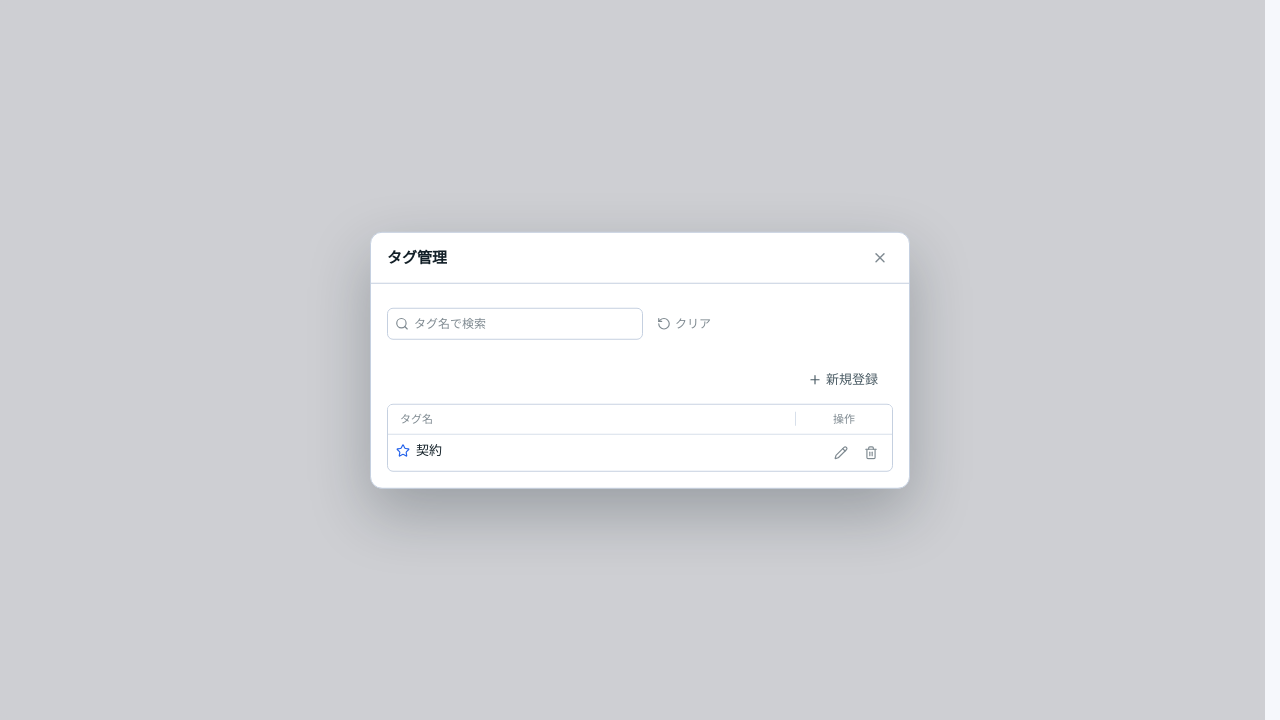
Test: TagMasterOverlay — 削除フロー 3 経路（cmn-0384・close-first 配線） › remove 失敗でもダイアログは閉じたまま（失敗の通知はトーストに委譲）
This screenshot has width=1280, height=720.
Click the button named "契約 を削除" at {"x": 871, "y": 452}, box [858, 439, 884, 465]
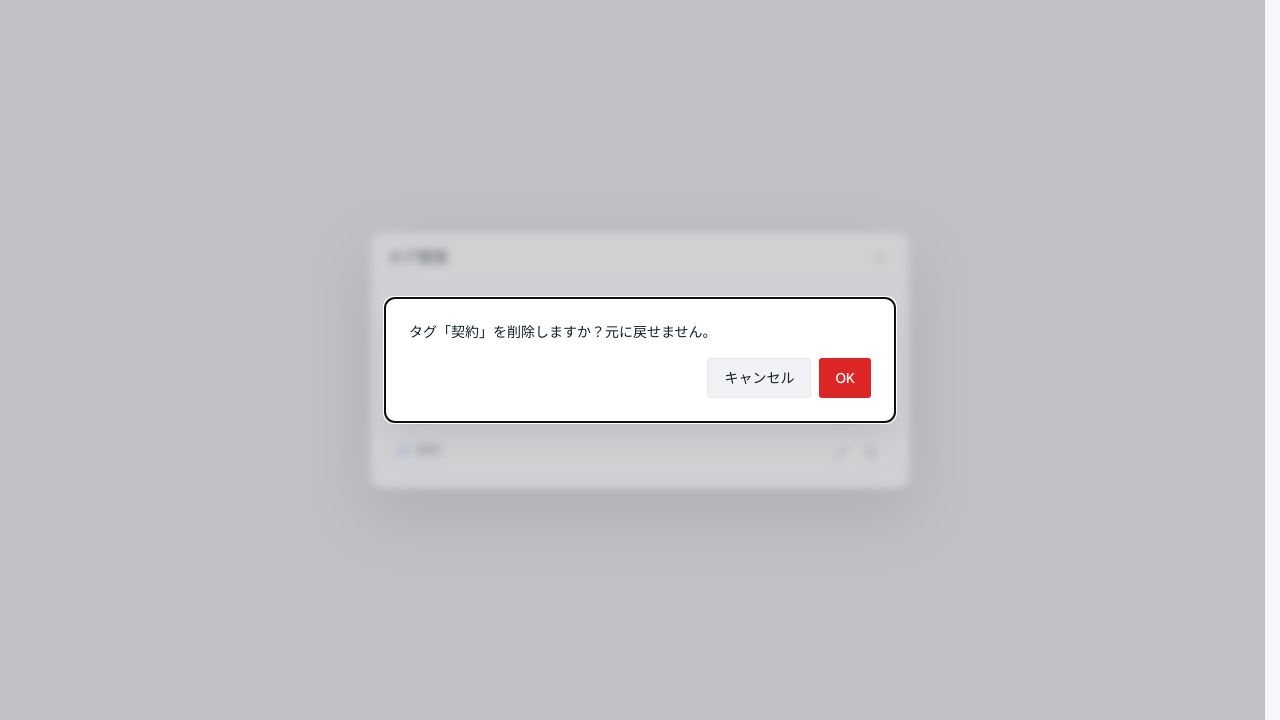
Click the button "OK" at {"x": 845, "y": 378}, box [820, 358, 871, 398]
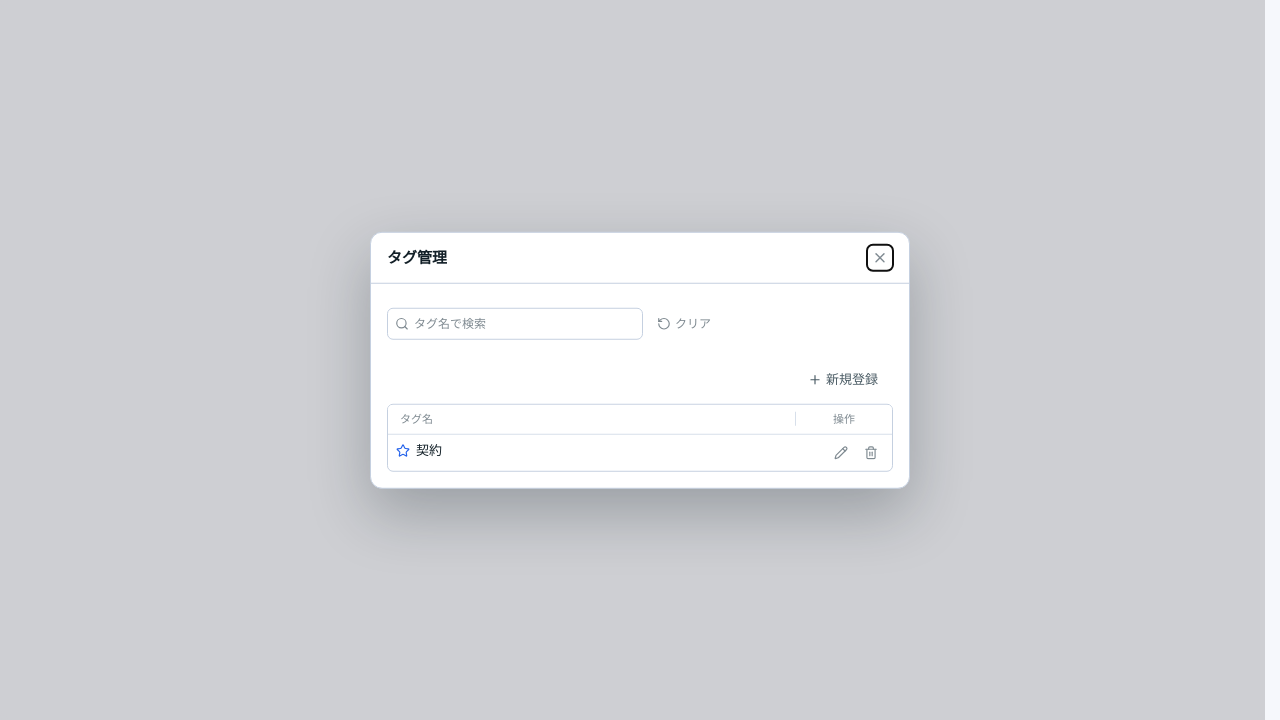
Check: the button named "契約 を削除" is shown, box [858, 439, 884, 465]
Check: the dialog "タグ「契約」を削除しますか？元に戻せません。 キャンセル OK" is gone
